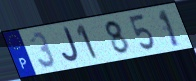1: (157, 8, 183, 48), (75, 23, 100, 61)
3: (28, 31, 57, 71)
5: (127, 13, 156, 52)
8: (105, 19, 132, 56)
J: (61, 26, 81, 64)
